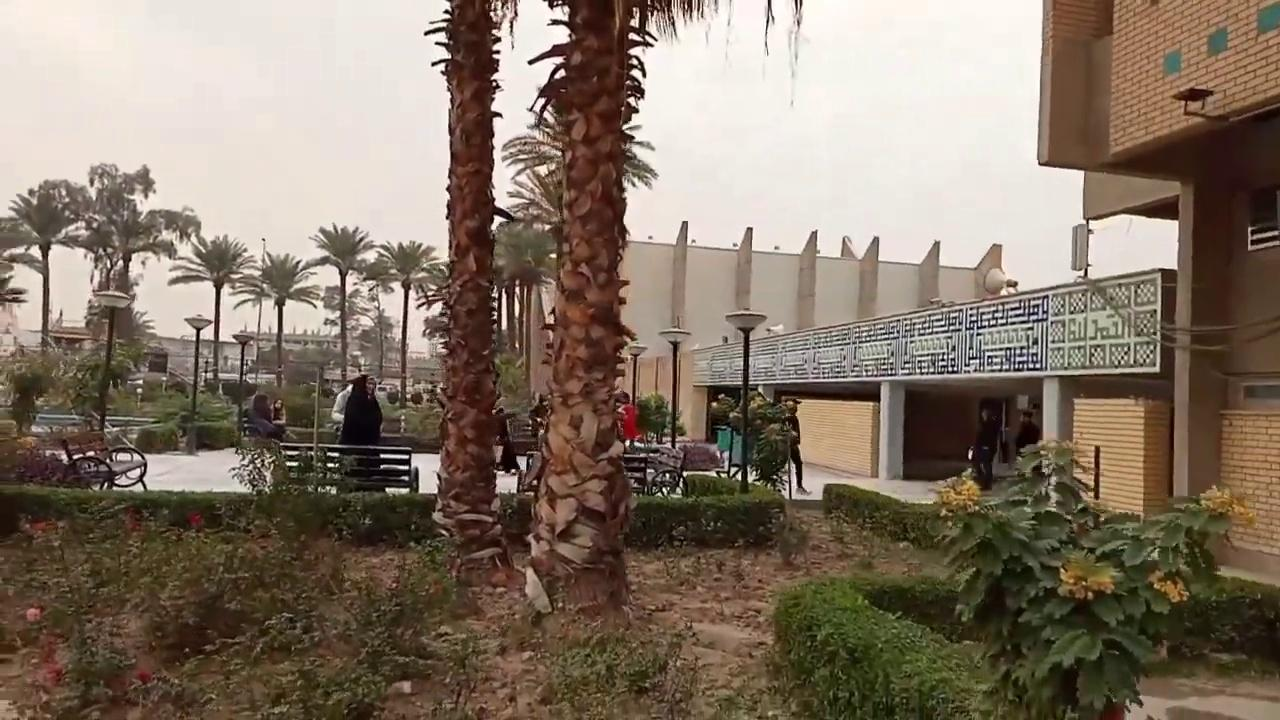person: (780, 397, 811, 495), (969, 402, 1001, 491), (243, 393, 284, 441), (493, 406, 521, 474), (1015, 409, 1041, 475), (615, 390, 642, 449)
tree: (421, 0, 803, 625), (935, 436, 1263, 718), (519, 1, 656, 626), (420, 0, 518, 577), (498, 120, 656, 410), (60, 160, 200, 432), (5, 177, 90, 357), (166, 232, 255, 393), (370, 239, 443, 407), (493, 221, 557, 409), (236, 247, 321, 387), (303, 221, 374, 383), (228, 249, 272, 383), (0, 245, 47, 348), (359, 258, 396, 382)
